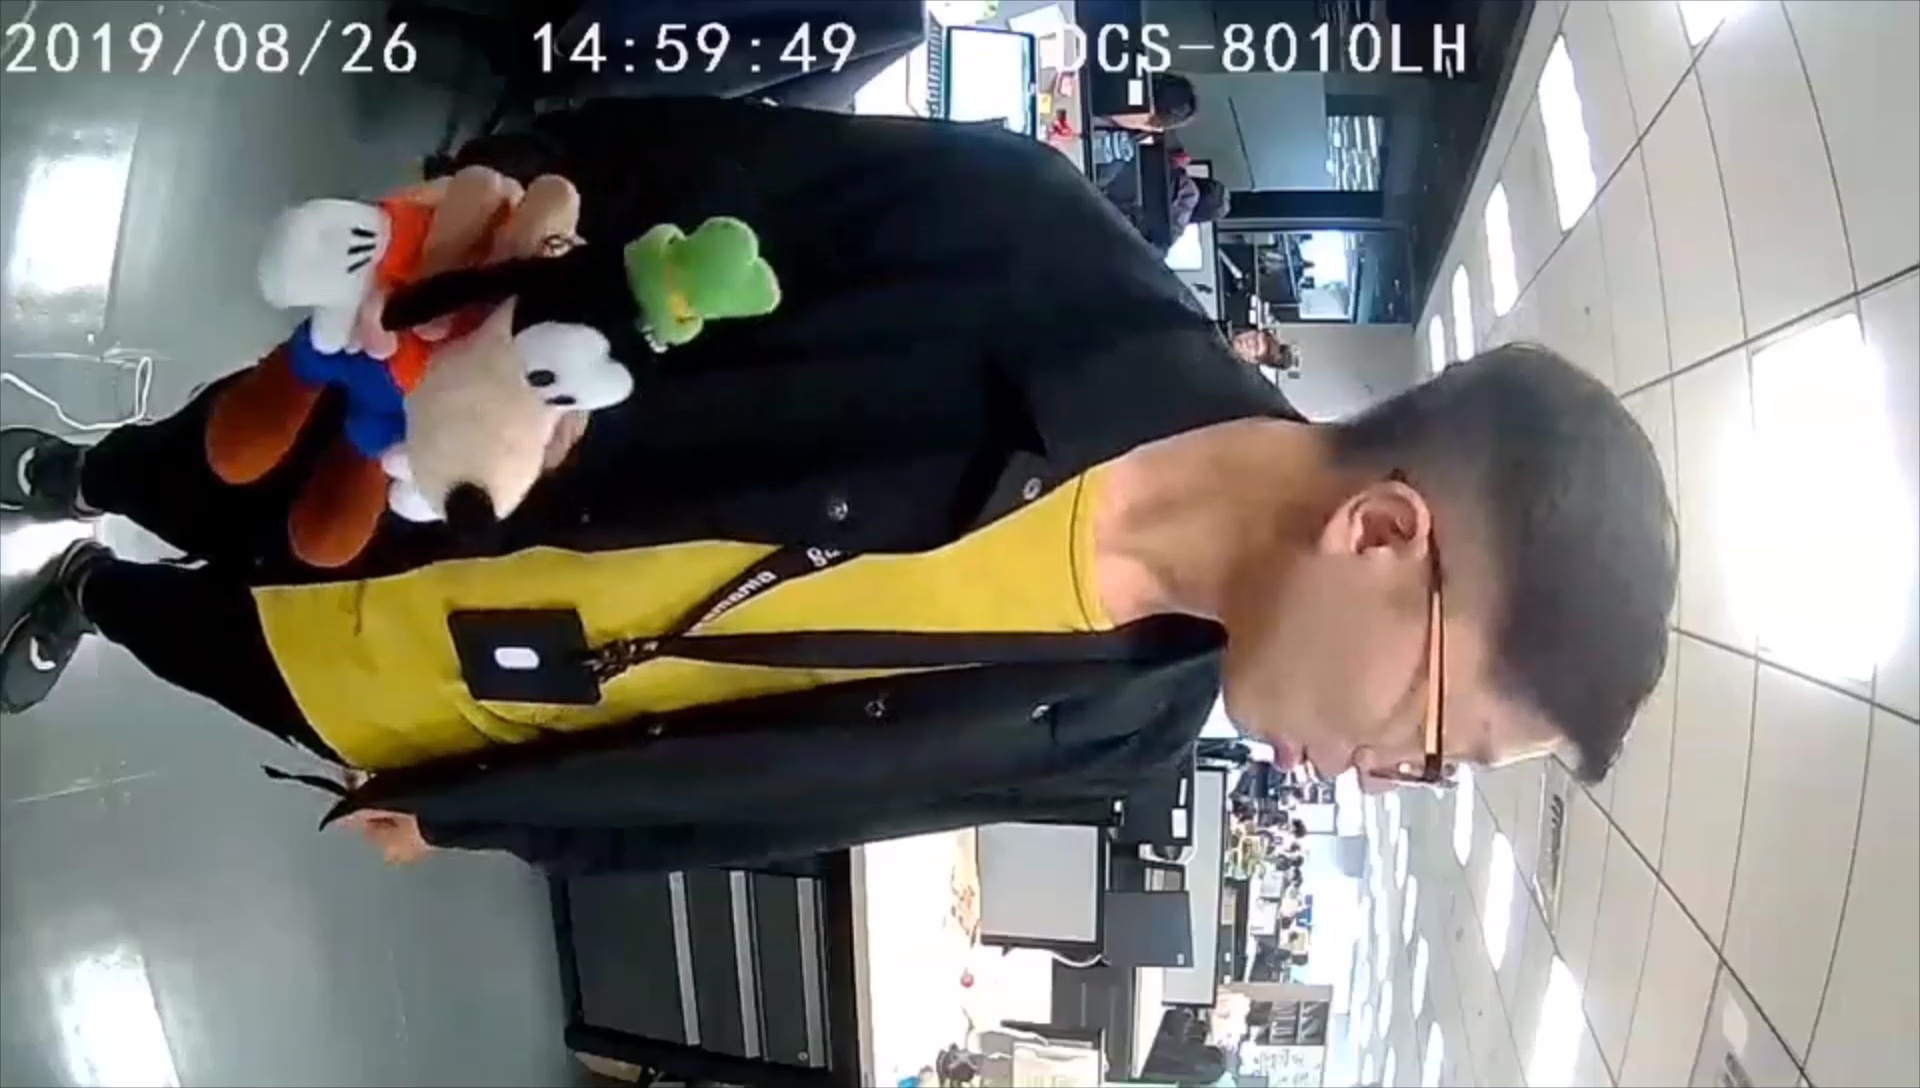goofy: (204, 194, 781, 566)
